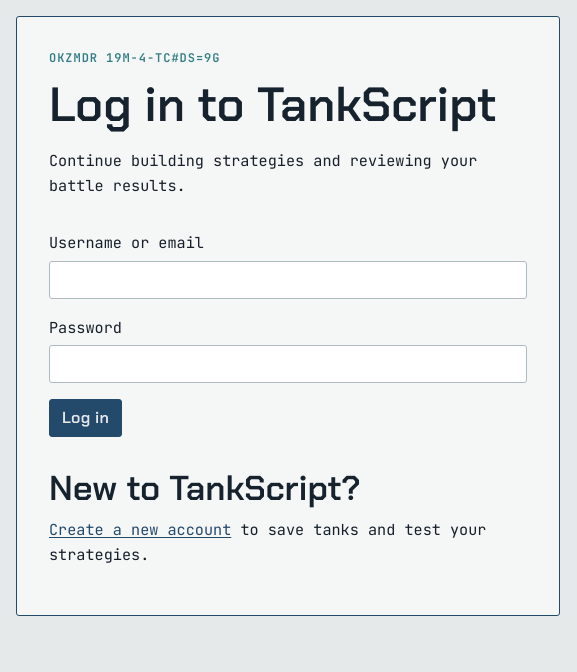
authentication forms › shows an authentication error when login is rejected
The image size is (577, 672).
Type "pilot@example.test" into the field labelled "Username or email" at (288, 280), box [49,261,527,299]
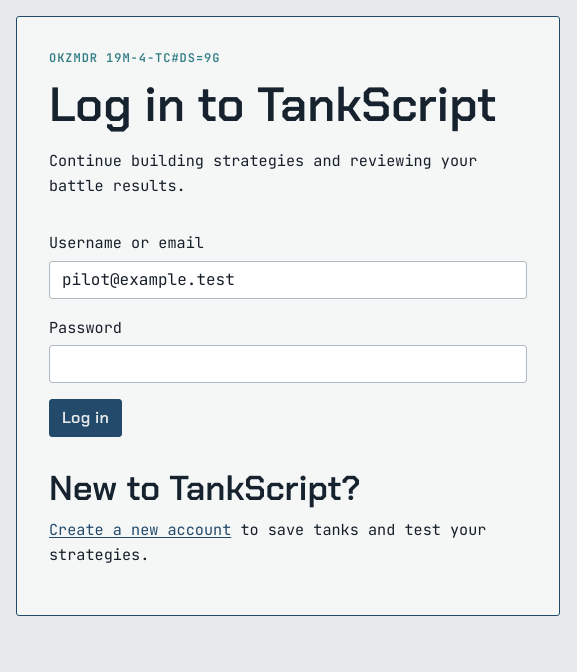
Type "wrongpass1" into the password field labelled "Password" at (288, 364), box [49,346,527,384]
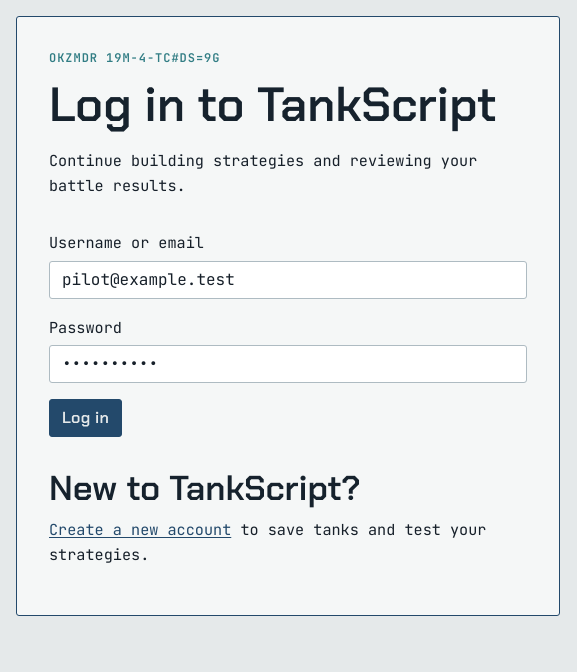
Click the button "Log in" at (86, 418), box [49,400,122,438]
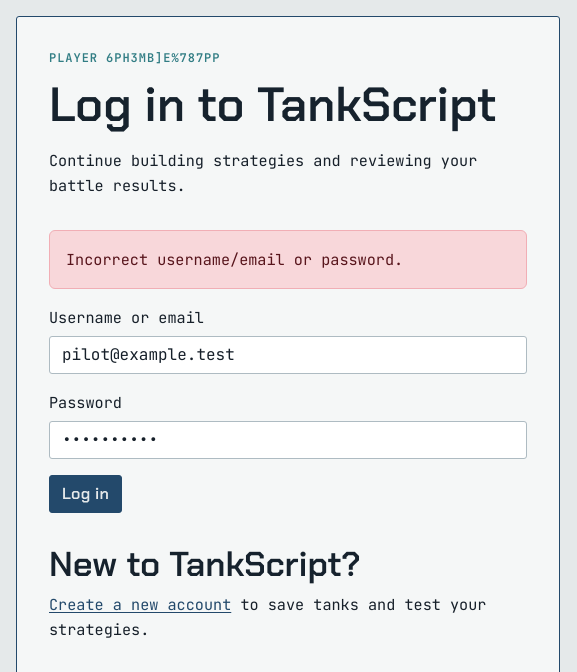
Expected: the message reads "Incorrect username/email or password.", [66,249,403,270]
